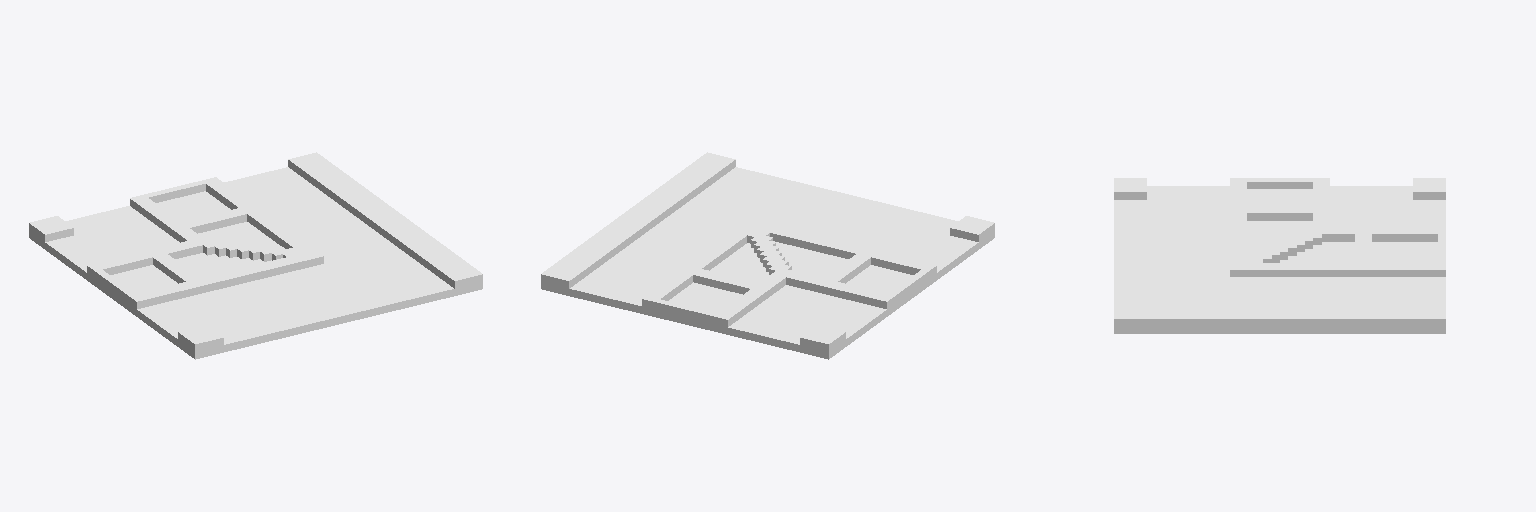
The model's file is Asset-30.obj.
3 renders of one model, left to right at view 1: azimuth 30°, elevation 25°; view 2: azimuth 150°, elevation 25°; view 3: azimuth 270°, elevation 25°, orthographic.
Parts seen in each view (by area): view 1: Asset-30; view 2: Asset-30; view 3: Asset-30.
Part boxes in pixels (x1,y1,x2,y2): Asset-30: (29,152,482,359); Asset-30: (541,152,994,359); Asset-30: (1114,178,1445,333).
Bounding box in the file's own units: 40 × 2 × 40.